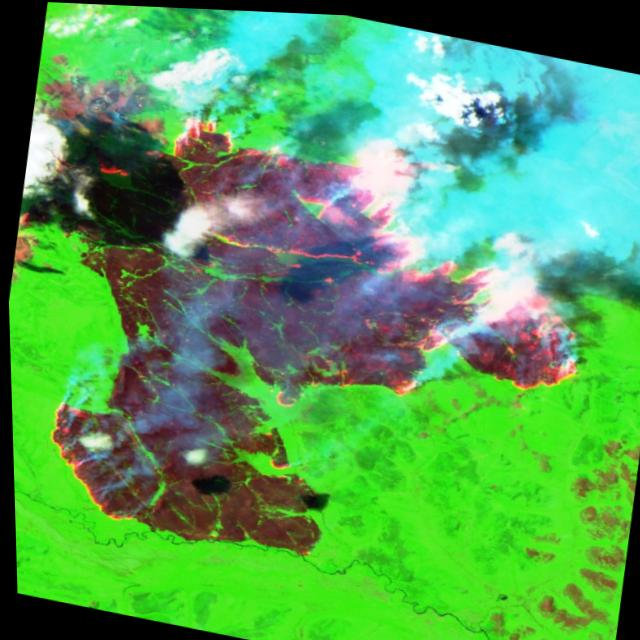fire: (1, 41, 629, 617)
